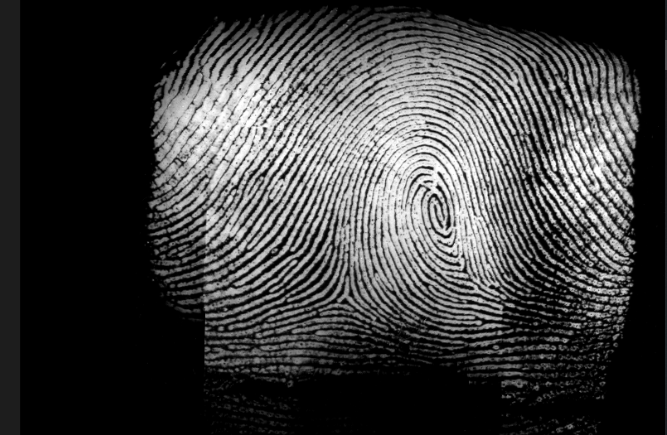deltas: (320, 272, 363, 317)
nucleo: (413, 184, 457, 241)
